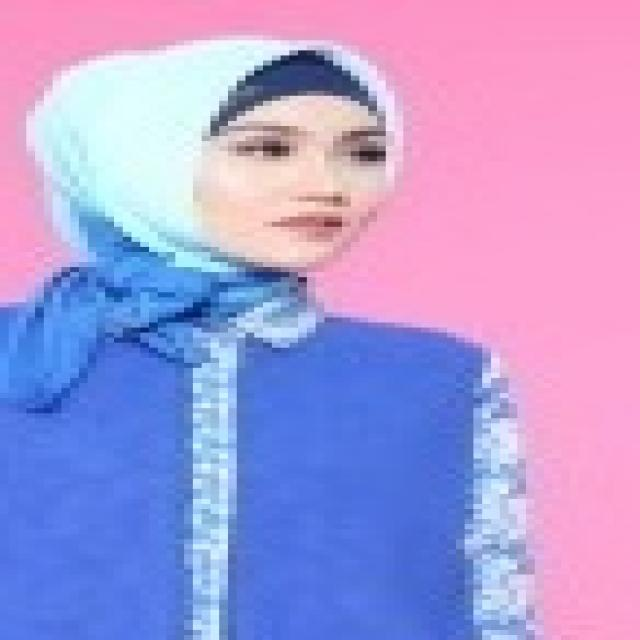head: (35, 34, 414, 299)
